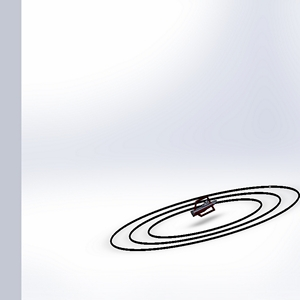circle: (99, 176, 300, 272)
submarine: (182, 193, 223, 223)
